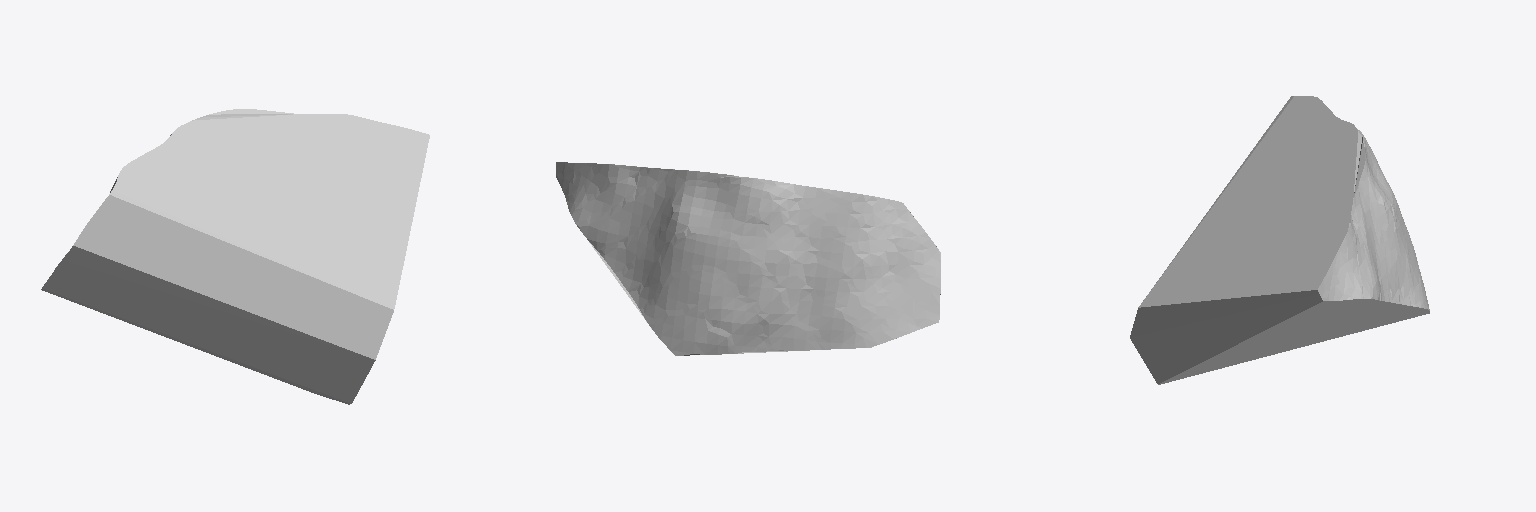
The model's file is low_cell_002.obj.
3 renders of one model, left to right at view 1: azimuth 30°, elevation 25°; view 2: azimuth 150°, elevation 25°; view 3: azimuth 270°, elevation 25°, orthographic.
Parts seen in each view (by area): view 1: low_cell.002_low_cell.001; view 2: low_cell.002_low_cell.001; view 3: low_cell.002_low_cell.001.
Part boxes in pixels (left/top/right/bottom): low_cell.002_low_cell.001: left=41, top=109, right=429, bottom=404; low_cell.002_low_cell.001: left=556, top=162, right=940, bottom=355; low_cell.002_low_cell.001: left=1130, top=96, right=1429, bottom=384.
Size of the model in its own units: 0.7306 by 0.4082 by 0.4932.